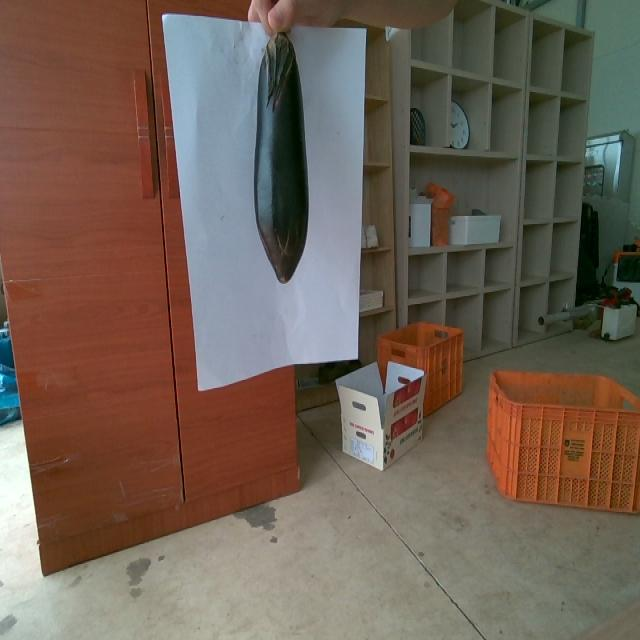Egg plant: (254, 33, 308, 281)
